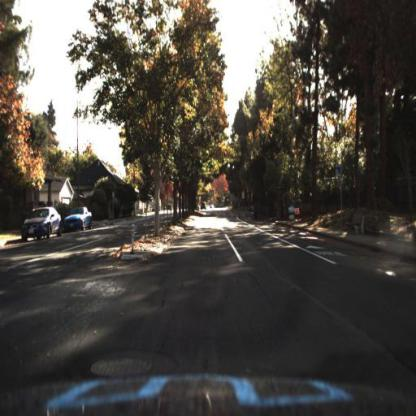car: (17, 198, 63, 242), (62, 203, 95, 237), (62, 203, 95, 235), (199, 200, 208, 216)
